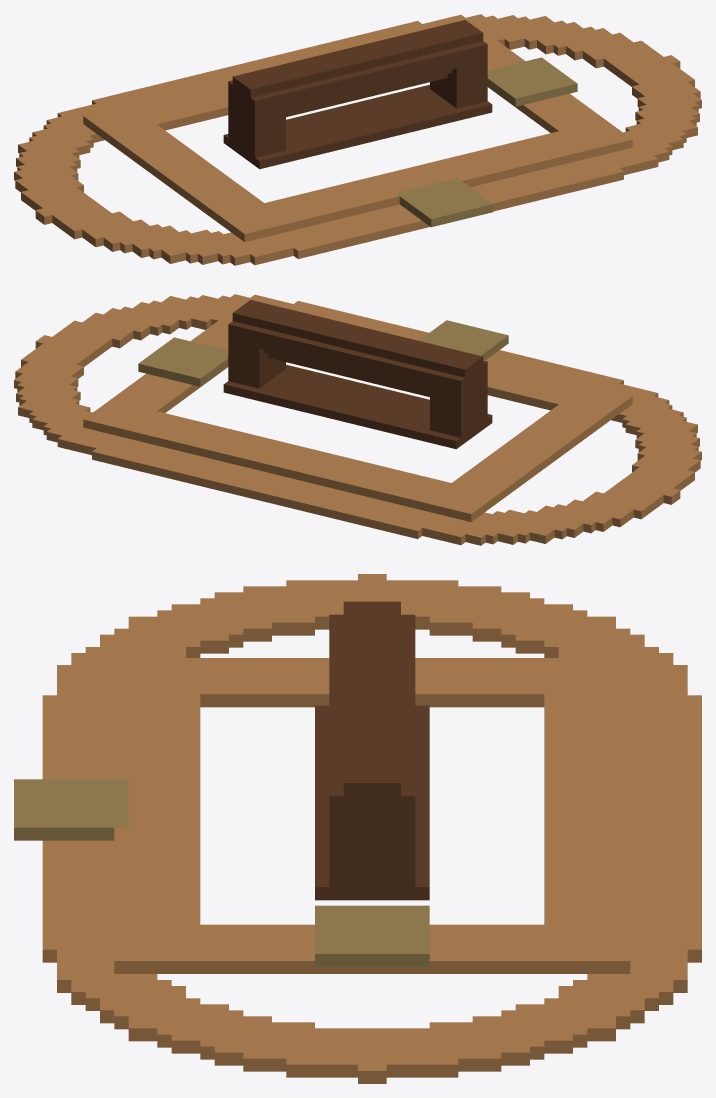
The model's file is bookstrap.glb.
3 views of the same model, one above another, from view 1: azimuth 30°, elevation 25°; view 2: azimuth 150°, elevation 25°; view 3: azimuth 270°, elevation 25° (orthographic). The views are drawn at different scales.
Parts seen in each view (by area): view 1: bookstrap:compound; view 2: bookstrap:compound; view 3: bookstrap:compound.
Part boxes in pixels (x1,y1,x2,y2): bookstrap:compound: [14, 14, 701, 265]; bookstrap:compound: [14, 294, 701, 545]; bookstrap:compound: [14, 574, 701, 1083].
Bounding box in the file's own units: 0.328 × 0.044 × 0.192.
